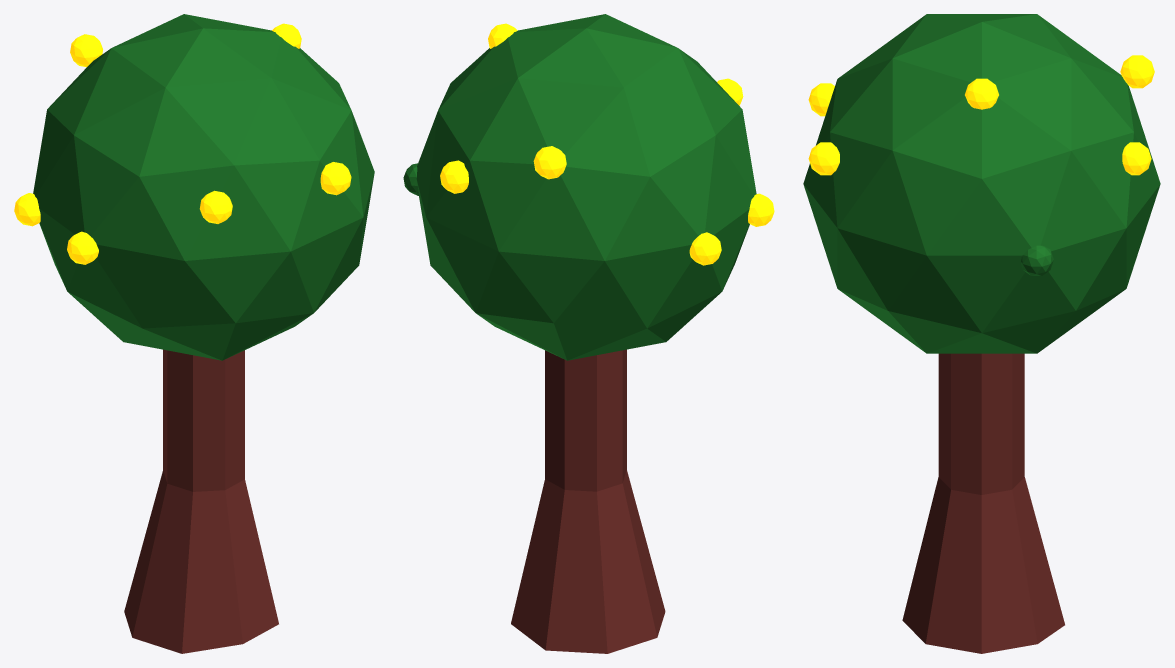
Rendered from orange_tree.glb.
3 views of the same model, side by side, from view 1: azimuth 30°, elevation 25°; view 2: azimuth 150°, elevation 25°; view 3: azimuth 270°, elevation 25° (orthographic).
Parts seen in each view (by area): view 1: 실린더; view 2: 실린더; view 3: 실린더.
Part boxes in pixels (x1,y1,x2,y2): 실린더: (14,14,374,653); 실린더: (403,14,774,653); 실린더: (803,14,1160,653).
Bounding box in the file's own units: 4.42 × 7.99 × 4.29.
